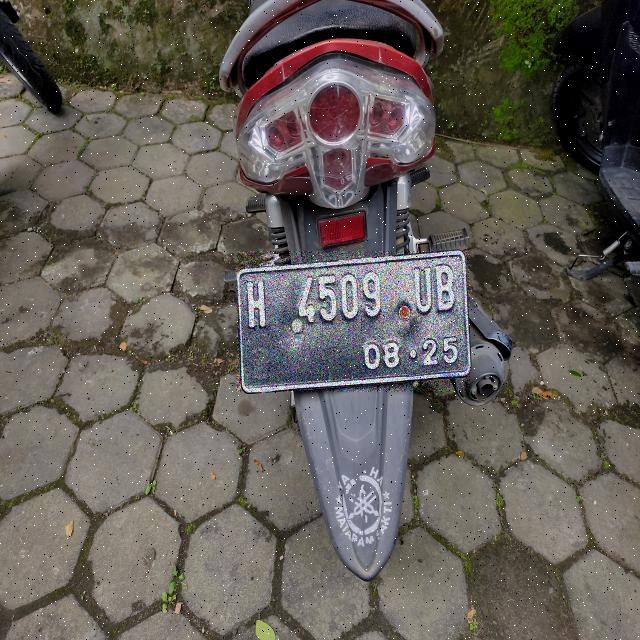plate: (237, 251, 469, 391)
